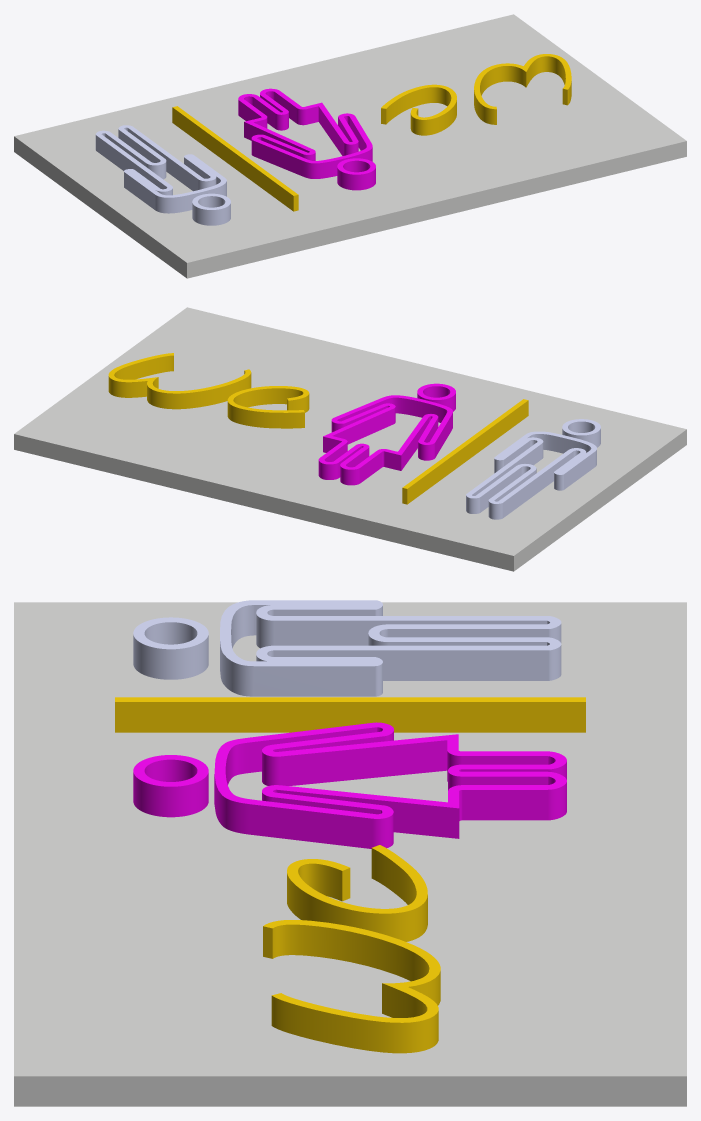
Rendered from wc_fume.glb.
3 renders of one model, top to bottom at view 1: azimuth 30°, elevation 25°; view 2: azimuth 150°, elevation 25°; view 3: azimuth 270°, elevation 25°, orthographic. The views are drawn at different scales.
Visible parts, largest first — view 1: Body14, Body13, Body5, Body3, Body9, Body2, Body7, Body6; view 2: Body14, Body13, Body5, Body9, Body2, Body3, Body6, Body7; view 3: Body14, Body13, Body5, Body3, Body9, Body2, Body6, Body7.
Part boxes in pixels (box(x1,y1,x2,y2)): Body14: box(14, 14, 686, 278); Body13: box(238, 88, 372, 178); Body5: box(95, 125, 226, 213); Body3: box(172, 106, 298, 211); Body9: box(474, 54, 571, 124); Body2: box(381, 84, 456, 135); Body7: box(337, 158, 375, 190); Body6: box(192, 193, 230, 225); Body14: box(14, 307, 686, 571); Body13: box(318, 395, 452, 485); Body5: box(466, 431, 596, 519); Body9: box(108, 353, 251, 409); Body2: box(227, 386, 309, 428); Body3: box(402, 399, 528, 504); Body6: box(562, 419, 600, 447); Body7: box(417, 383, 455, 411); Body14: box(14, 602, 686, 1106); Body13: box(214, 722, 566, 848); Body5: box(220, 600, 561, 696); Body3: box(115, 697, 585, 732); Body9: box(263, 920, 440, 1053); Body2: box(287, 845, 427, 941); Body6: box(133, 617, 208, 679); Body7: box(133, 755, 208, 817).
Bounding box in the file's own units: 0.5 × 0.03 × 0.3.
